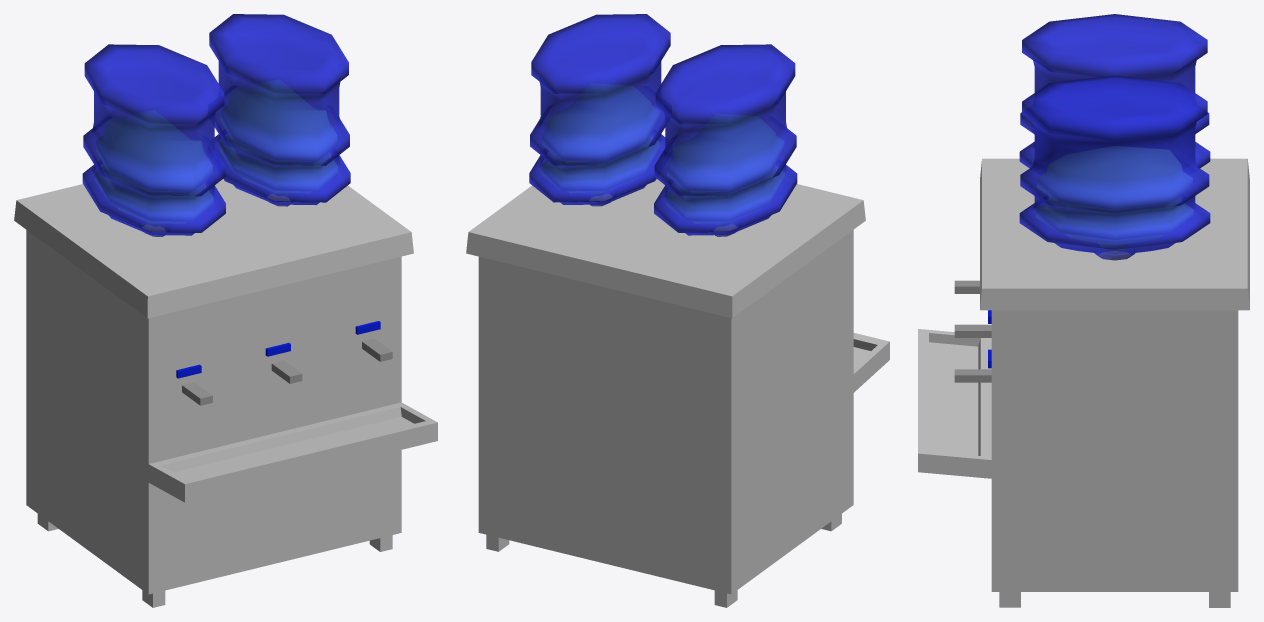
Rendered from Bebedouro.fbx.
3 views of the same model, side by side, from view 1: azimuth 30°, elevation 25°; view 2: azimuth 150°, elevation 25°; view 3: azimuth 270°, elevation 25° (orthographic).
Visible parts, largest first — view 1: WaterFountain; view 2: WaterFountain; view 3: WaterFountain.
Boxes of the visible parts, left/top/right/bottom form: WaterFountain: left=14, top=14, right=437, bottom=607; WaterFountain: left=466, top=14, right=889, bottom=607; WaterFountain: left=918, top=14, right=1249, bottom=607.
Bounding box in the file's own units: 401 × 686 × 428.
